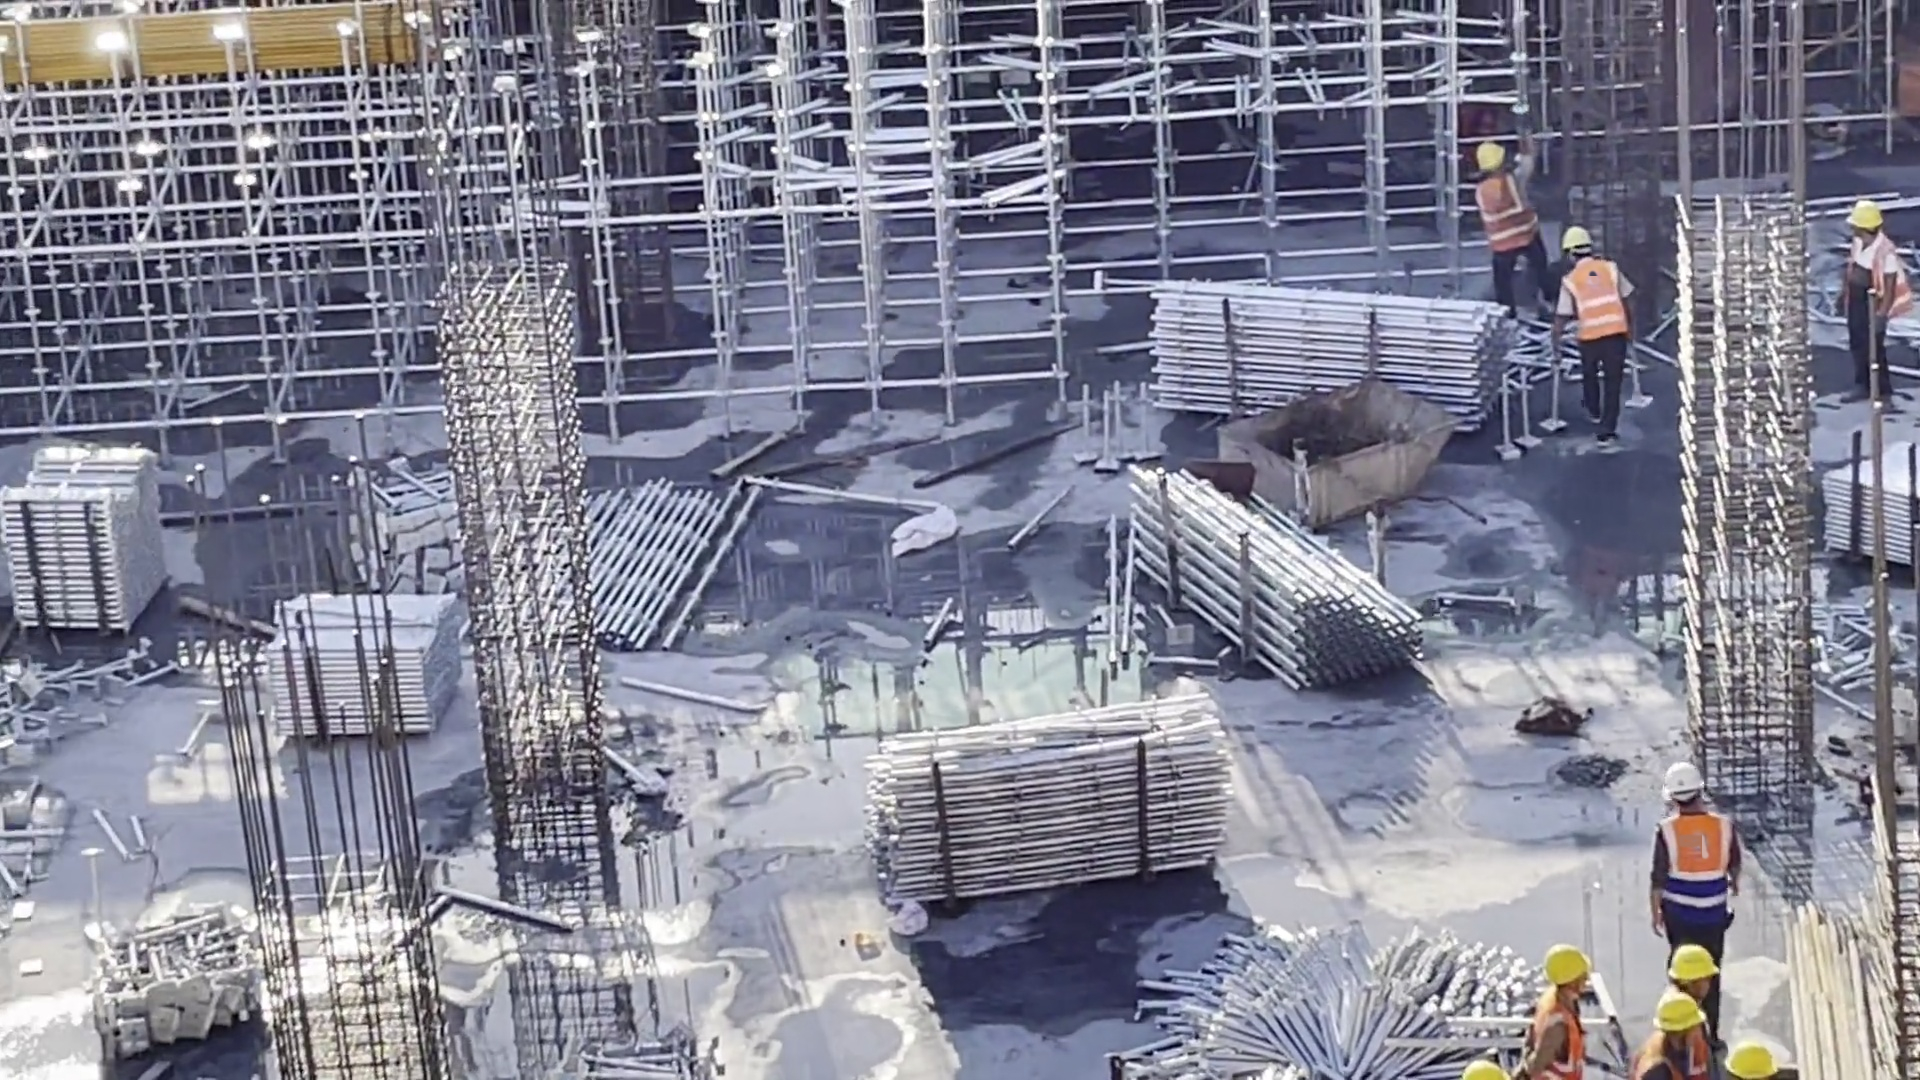helmet: (1846, 206, 1899, 287), (1664, 761, 1716, 831), (1649, 994, 1709, 1047), (1679, 941, 1729, 994), (1526, 942, 1574, 979), (1469, 1044, 1519, 1080), (1551, 229, 1623, 252), (1724, 1044, 1769, 1080), (1479, 142, 1509, 176)
person: (1839, 211, 1920, 402), (1678, 741, 1731, 976), (1563, 248, 1634, 425), (1469, 138, 1544, 281), (1534, 948, 1596, 1080), (1679, 946, 1729, 1080), (1641, 995, 1707, 1080), (1724, 1040, 1761, 1080), (1458, 1060, 1480, 1080)
vest: (1486, 172, 1558, 262), (1669, 827, 1736, 917), (1576, 279, 1638, 372), (1844, 249, 1899, 317), (1541, 996, 1578, 1062), (1653, 1046, 1695, 1080)
